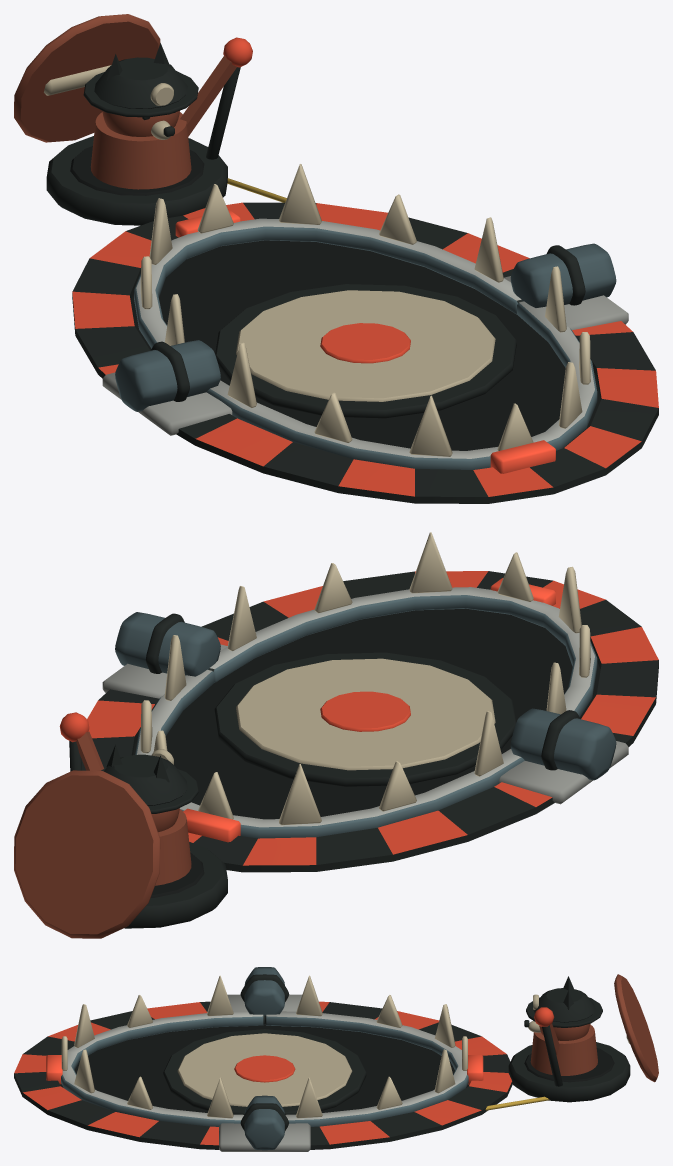
Rendered from enemy_pit_jaw.glb.
3 renders of one model, top to bottom at view 1: azimuth 30°, elevation 25°; view 2: azimuth 150°, elevation 25°; view 3: azimuth 270°, elevation 25°, orthographic. The views are drawn at different scales.
Visible parts, largest first — view 1: PitJawFrame, PitJawA, PitJawB; view 2: PitJawFrame, PitJawA, PitJawB; view 3: PitJawFrame, PitJawA, PitJawB.
Boxes of the visible parts, x1,y1,x2,y2 form: PitJawFrame: [14, 14, 658, 503]; PitJawA: [206, 266, 597, 473]; PitJawB: [134, 164, 522, 348]; PitJawFrame: [14, 571, 658, 938]; PitJawA: [209, 532, 597, 716]; PitJawB: [135, 635, 524, 842]; PitJawFrame: [14, 967, 658, 1151]; PitJawA: [46, 975, 264, 1126]; PitJawB: [265, 975, 483, 1126].
Size of the model in its own units: 3.62 by 1.07 by 6.35.
